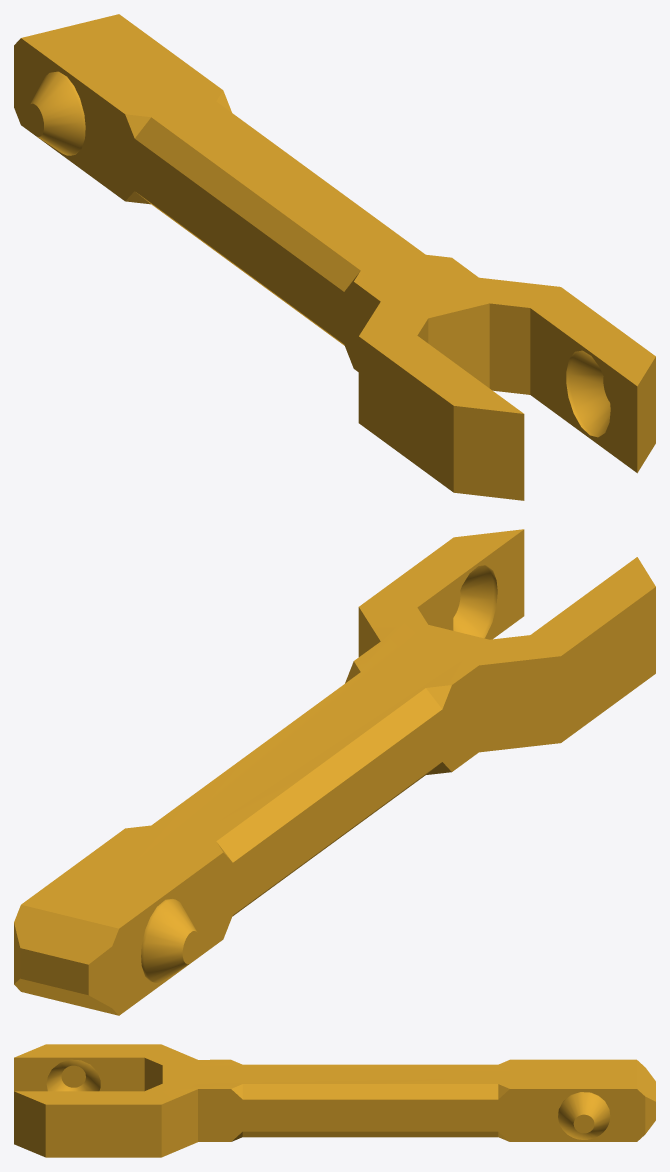
The model's file is inserter-arm-basic-upper.glb.
3 views of the same model, one above another, from view 1: azimuth 30°, elevation 25°; view 2: azimuth 150°, elevation 25°; view 3: azimuth 270°, elevation 25° (orthographic). The views are drawn at different scales.
Visible parts, largest first — view 1: body; view 2: body; view 3: body.
Part boxes in pixels (x1,y1,x2,y2): body: (14,14,655,500); body: (14,529,655,1015); body: (14,1044,655,1157).
Bounding box in the file's own units: 0.2197 × 0.0905 × 0.9905.
